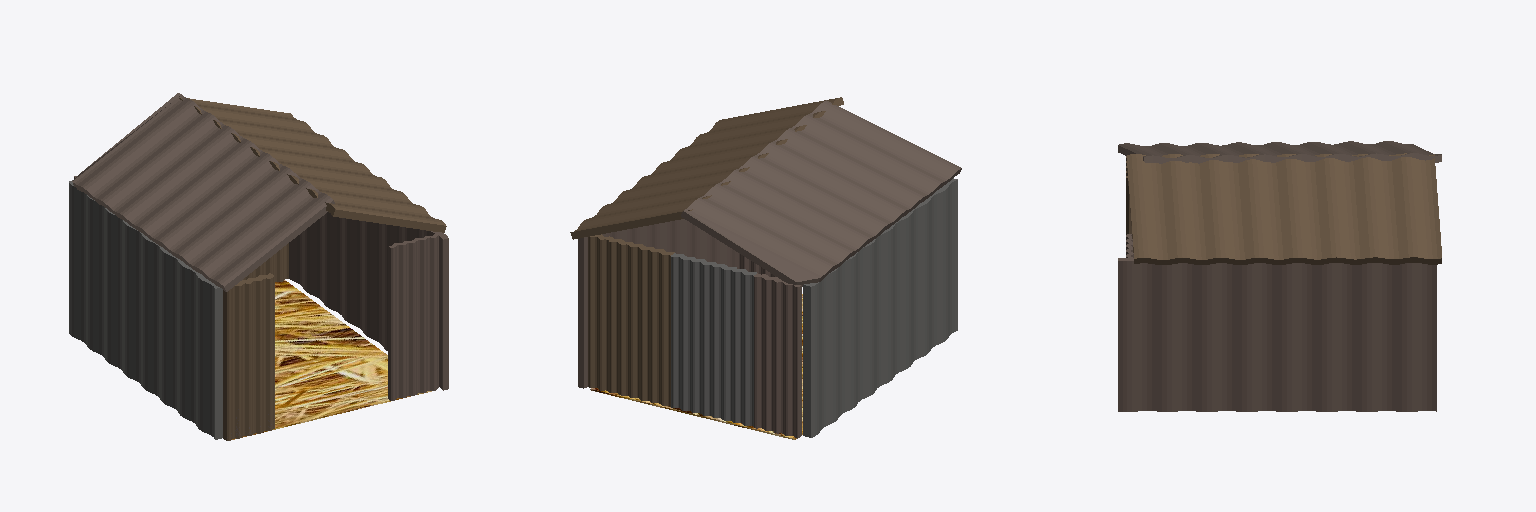
3 renders of one model, left to right at view 1: azimuth 30°, elevation 25°; view 2: azimuth 150°, elevation 25°; view 3: azimuth 270°, elevation 25°, orthographic.
Parts seen in each view (by area): view 1: Sheeting..005_Mesh105_Corrugated_5_5_Group1_Model, Sheeting..003_Mesh98_Corrugated3_Group1_Model, Floorboards_Mesh22_G_2x8_panel1_Storage_Shed1_Group1_Model.003, Sheeting..014_Mesh107_Corrugated6_Group1_Model, Sheeting..009_Mesh100_Corrugated_5_2_Group1_Model, Sheeting..007_Mesh97_Corrugated_6_2_Group1_Model, Sheeting._Mesh110_Corrugated_6_4_Group1_Model, Sheeting._Mesh110_Corrugated_6_4_Group1_Model.001, Sheeting..015_Mesh92_Corrugated_3_1_Group1_Model; view 2: Sheeting..005_Mesh105_Corrugated_5_5_Group1_Model, Sheeting..003_Mesh98_Corrugated3_Group1_Model, Sheeting..016_Mesh109_Corrugated_3_2_Group1_Model, Sheeting..015_Mesh92_Corrugated_3_1_Group1_Model, Sheeting..009_Mesh100_Corrugated_5_2_Group1_Model, Sheeting..017_Mesh102_Corrugated_10_1_Group1_Model, Sheeting..014_Mesh107_Corrugated6_Group1_Model, Floorboards_Mesh22_G_2x8_panel1_Storage_Shed1_Group1_Model.003; view 3: Sheeting..014_Mesh107_Corrugated6_Group1_Model, Sheeting..009_Mesh100_Corrugated_5_2_Group1_Model, Sheeting..005_Mesh105_Corrugated_5_5_Group1_Model.
Boxes of the visible parts, box(x1,y1,x2,y2) form: Sheeting..005_Mesh105_Corrugated_5_5_Group1_Model: box(72, 93, 334, 291); Sheeting..003_Mesh98_Corrugated3_Group1_Model: box(69, 180, 222, 439); Floorboards_Mesh22_G_2x8_panel1_Storage_Shed1_Group1_Model.003: box(232, 280, 431, 439); Sheeting..014_Mesh107_Corrugated6_Group1_Model: box(289, 212, 448, 390); Sheeting..009_Mesh100_Corrugated_5_2_Group1_Model: box(179, 97, 446, 232); Sheeting..007_Mesh97_Corrugated_6_2_Group1_Model: box(388, 233, 438, 400); Sheeting._Mesh110_Corrugated_6_4_Group1_Model: box(223, 273, 274, 440); Sheeting._Mesh110_Corrugated_6_4_Group1_Model.001: box(227, 276, 274, 440); Sheeting..015_Mesh92_Corrugated_3_1_Group1_Model: box(243, 243, 288, 281); Sheeting..005_Mesh105_Corrugated_5_5_Group1_Model: box(681, 100, 961, 286); Sheeting..003_Mesh98_Corrugated3_Group1_Model: box(803, 178, 957, 437); Sheeting..016_Mesh109_Corrugated_3_2_Group1_Model: box(671, 253, 756, 426); Sheeting..015_Mesh92_Corrugated_3_1_Group1_Model: box(588, 234, 674, 406); Sheeting..009_Mesh100_Corrugated_5_2_Group1_Model: box(570, 97, 843, 239); Sheeting..017_Mesh102_Corrugated_10_1_Group1_Model: box(754, 273, 801, 438); Sheeting..014_Mesh107_Corrugated6_Group1_Model: box(578, 219, 734, 388); Floorboards_Mesh22_G_2x8_panel1_Storage_Shed1_Group1_Model.003: box(590, 294, 802, 439); Sheeting..014_Mesh107_Corrugated6_Group1_Model: box(1118, 258, 1436, 411); Sheeting..009_Mesh100_Corrugated_5_2_Group1_Model: box(1127, 153, 1441, 264); Sheeting..005_Mesh105_Corrugated_5_5_Group1_Model: box(1118, 141, 1441, 163).
Size of the model in its own units: 2.75 by 2.33 by 3.27.
12 materials, 1 textured.